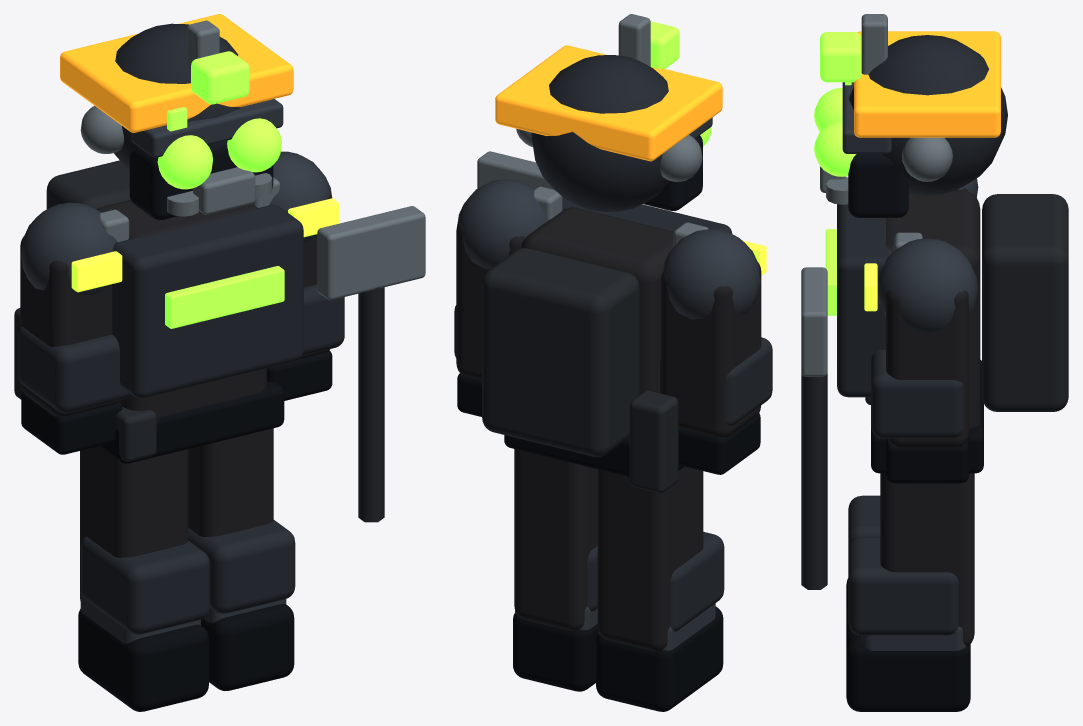
File: engineer_l01.glb
The picture shows the model from 3 angles, left to right: view 1: azimuth 30°, elevation 25°; view 2: azimuth 150°, elevation 25°; view 3: azimuth 270°, elevation 25°; orthographic projection. The views are drawn at different scales.
Visible parts, largest first — view 1: segmented_vest, trouser (×2), shaped_knee_guard (×2), boot (×2), safety_helmet_band, forearm_plate (×2), axe_head, shoulder_joint (×2), sleeve (×2), axe_handle, glove (×2), belt (+17 smaller); view 2: field_pack, trouser (×2), sleeve (×2), boot (×2), rounded_helmet, shoulder_joint (×2), safety_helmet_band, body, tool_roll, shaped_knee_guard (×2), glove (×2), forearm_plate (+9 smaller); view 3: field_pack, trouser, shaped_knee_guard (×2), safety_helmet_band, rounded_helmet, boot, segmented_vest, shoulder_joint, sleeve, body, forearm_plate, axe_handle (+14 smaller).
Boxes of the visible parts, box(x1,y1,x2,y2) form: segmented_vest: box(112, 204, 303, 398); trouser (×2): box(80, 428, 273, 600); shaped_knee_guard (×2): box(81, 520, 295, 634); boot (×2): box(78, 604, 294, 711); safety_helmet_band: box(60, 14, 293, 132); forearm_plate (×2): box(18, 284, 344, 413); axe_head: box(317, 206, 425, 300); shoulder_joint (×2): box(21, 151, 331, 294); sleeve (×2): box(20, 194, 332, 416); axe_handle: box(358, 287, 384, 522); glove (×2): box(21, 350, 332, 454); belt: box(99, 381, 284, 463); field_pack: box(482, 248, 639, 456); trouser (×2): box(514, 449, 703, 651); sleeve (×2): box(456, 220, 761, 437); boot (×2): box(513, 606, 723, 711); rounded_helmet: box(531, 55, 669, 211); shoulder_joint (×2): box(457, 179, 760, 319); safety_helmet_band: box(495, 45, 722, 161); body: box(521, 207, 673, 438); tool_roll: box(629, 390, 678, 493); shaped_knee_guard (×2): box(587, 532, 724, 631); glove (×2): box(457, 373, 760, 474); forearm_plate: box(660, 337, 772, 425); field_pack: box(982, 194, 1068, 411); trouser: box(880, 473, 974, 646); shaped_knee_guard (×2): box(848, 495, 958, 636); safety_helmet_band: box(854, 31, 1000, 137); rounded_helmet: box(849, 35, 1007, 195); boot: box(846, 619, 970, 711); segmented_vest: box(837, 204, 892, 397); shoulder_joint: box(877, 238, 978, 332); sleeve: box(886, 290, 968, 447); body: box(886, 190, 980, 428); forearm_plate: box(871, 349, 963, 438); axe_handle: box(801, 373, 827, 589).
Bounding box in the file's own units: 1.03 × 1.93 × 0.71.
